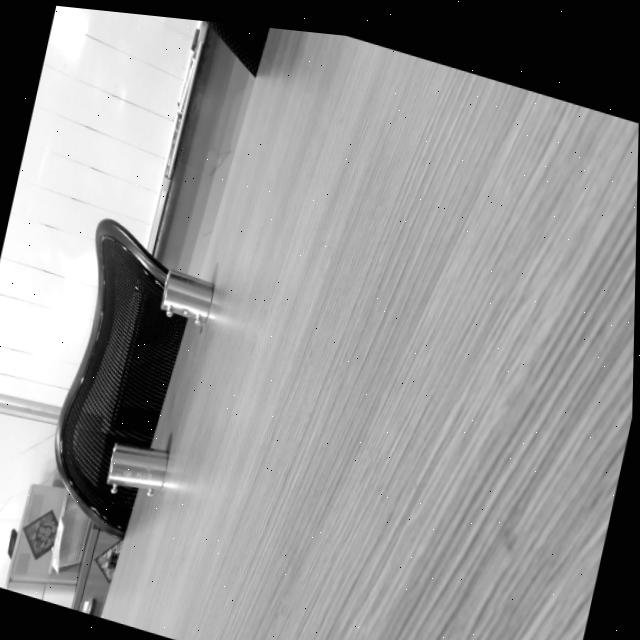Co_Lon: (104, 443, 168, 499)
Co_Nho: (155, 269, 218, 327)
